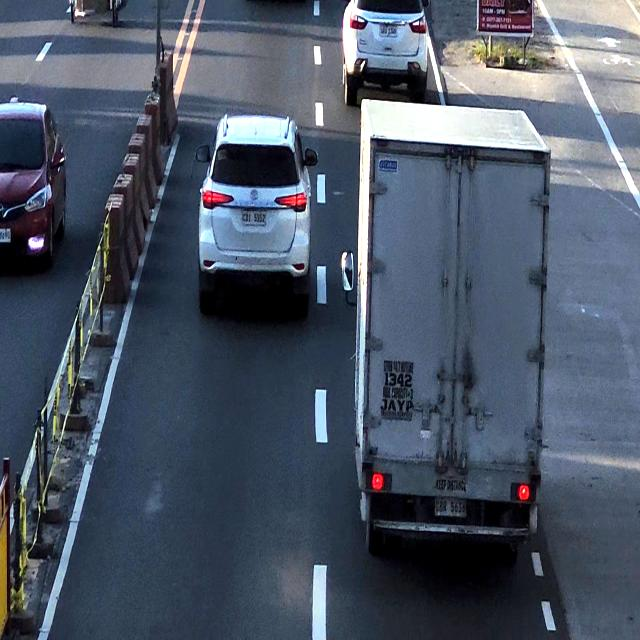Car: (353, 102, 540, 563), (200, 112, 312, 316), (340, 0, 431, 97)
License-Plate: (435, 493, 470, 518), (240, 205, 269, 228), (380, 24, 401, 38)
